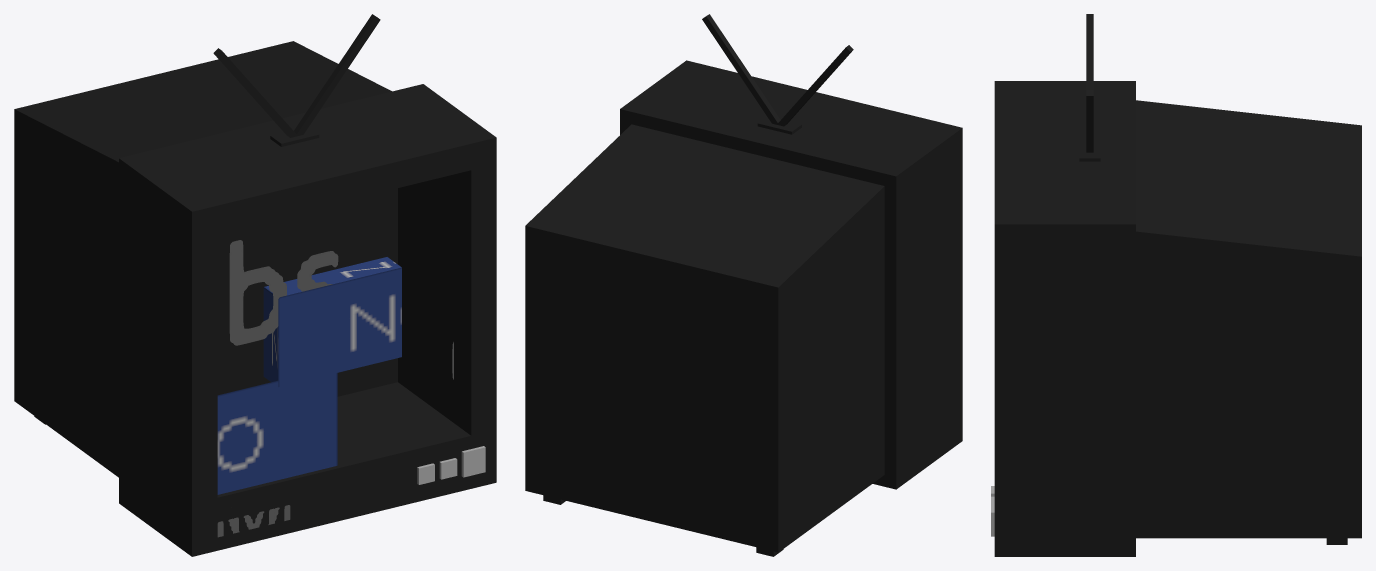
File: television.obj
3 renders of one model, left to right at view 1: azimuth 30°, elevation 25°; view 2: azimuth 150°, elevation 25°; view 3: azimuth 270°, elevation 25°, orthographic. The views are drawn at different scales.
Visible parts, largest first — view 1: cube, &GenericLight_FFFFFF_FFFFF_000, logo_translucent; view 2: cube; view 3: cube.
Part boxes in pixels (box(x1,y1,x2,y2)): cube: box(14, 14, 496, 556); &GenericLight_FFFFFF_FFFFF_000: box(217, 240, 453, 494); logo_translucent: box(217, 505, 290, 537); cube: box(525, 14, 962, 556); cube: box(991, 14, 1361, 556).
Size of the model in its own units: 0.75 by 1.07 by 0.8203.
